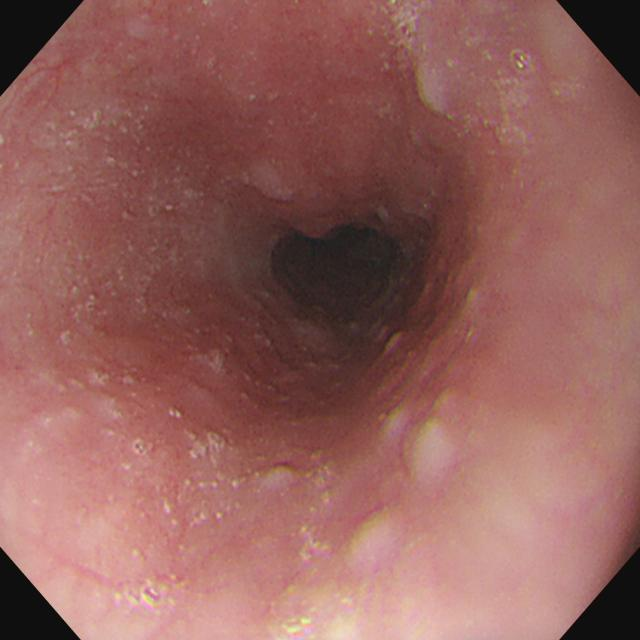E: (270, 215, 400, 322)
J: (346, 501, 406, 578), (406, 411, 466, 487), (410, 59, 453, 127), (371, 400, 419, 459), (254, 458, 303, 494), (187, 347, 238, 378)
T: (135, 400, 247, 539), (374, 2, 425, 57), (114, 580, 171, 612), (506, 43, 536, 78)
